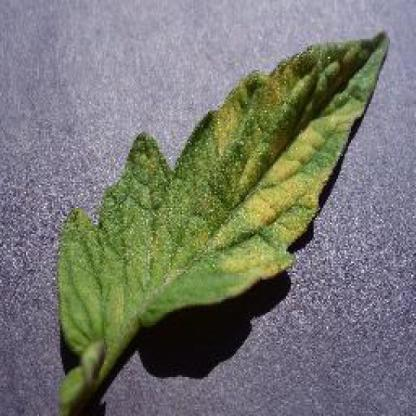Tomato_Leaf_Mold: (56, 30, 390, 355)
